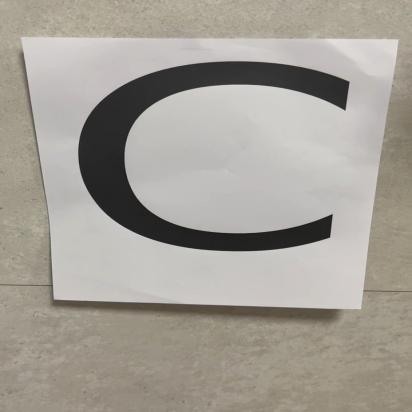seat: (41, 34, 368, 294)
